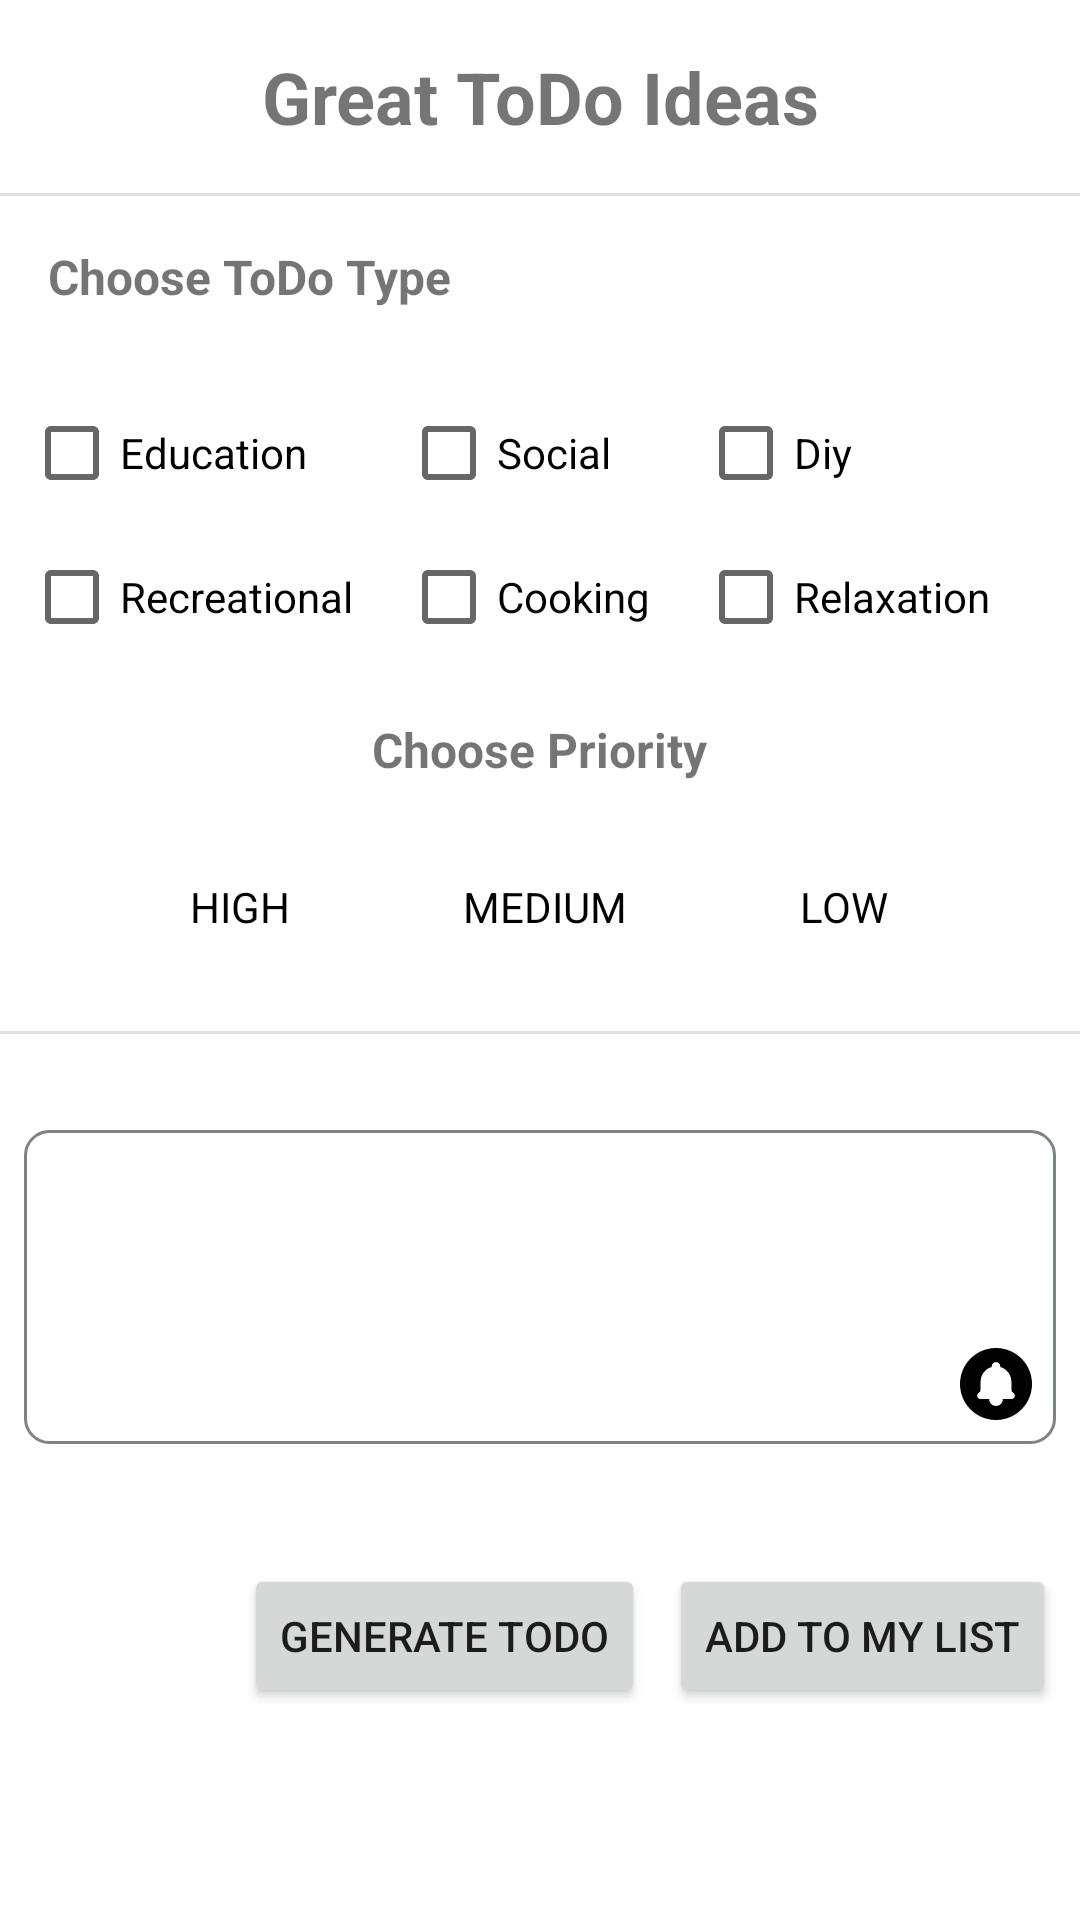

Locate icon controls on the screen. Image size 1080px×1920px, boxes as detection(x1, y1, x2, y2).
ui notification: detection(960, 1348, 1032, 1420)
